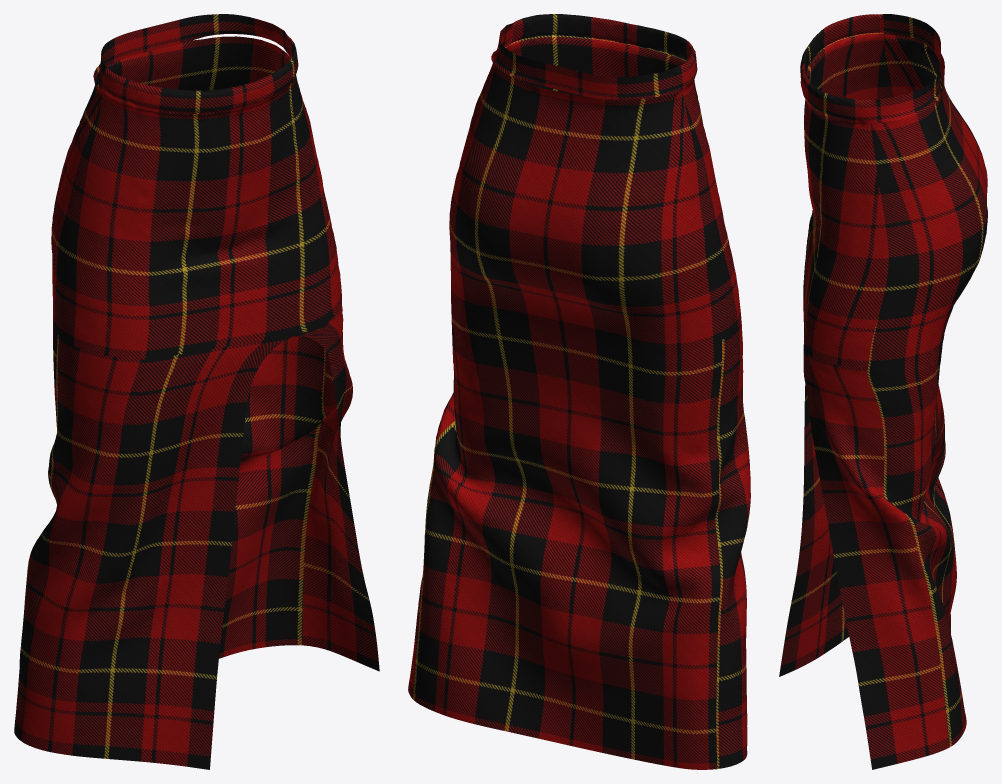
3 views of the same model, side by side, from view 1: azimuth 30°, elevation 25°; view 2: azimuth 150°, elevation 25°; view 3: azimuth 270°, elevation 25° (orthographic). The views are drawn at different scales.
Parts seen in each view (by area): view 1: Skirt_Update_2; view 2: Skirt_Update_2; view 3: Skirt_Update_2.
Boxes of the visible parts, <box> form: Skirt_Update_2: <box>14,14,379,769</box>; Skirt_Update_2: <box>408,14,750,769</box>; Skirt_Update_2: <box>779,14,987,769</box>.
Size of the model in its own units: 4.68 by 8.85 by 2.61.
Materials: 1 (1 with a texture image).
